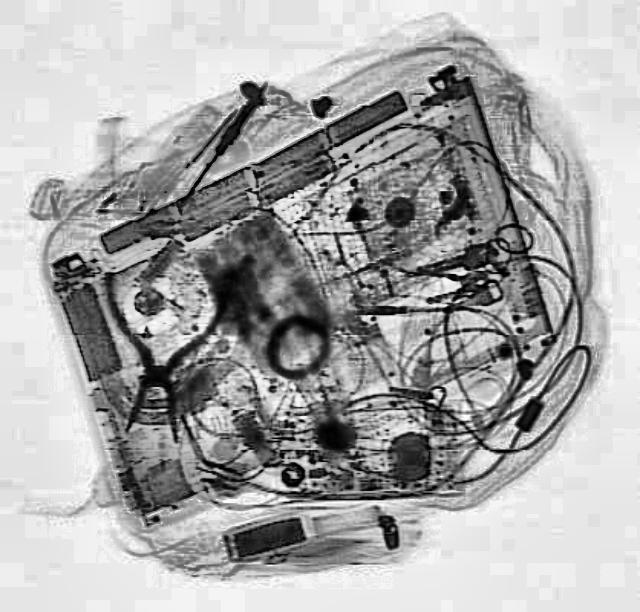Pliers: (84, 265, 226, 445)
